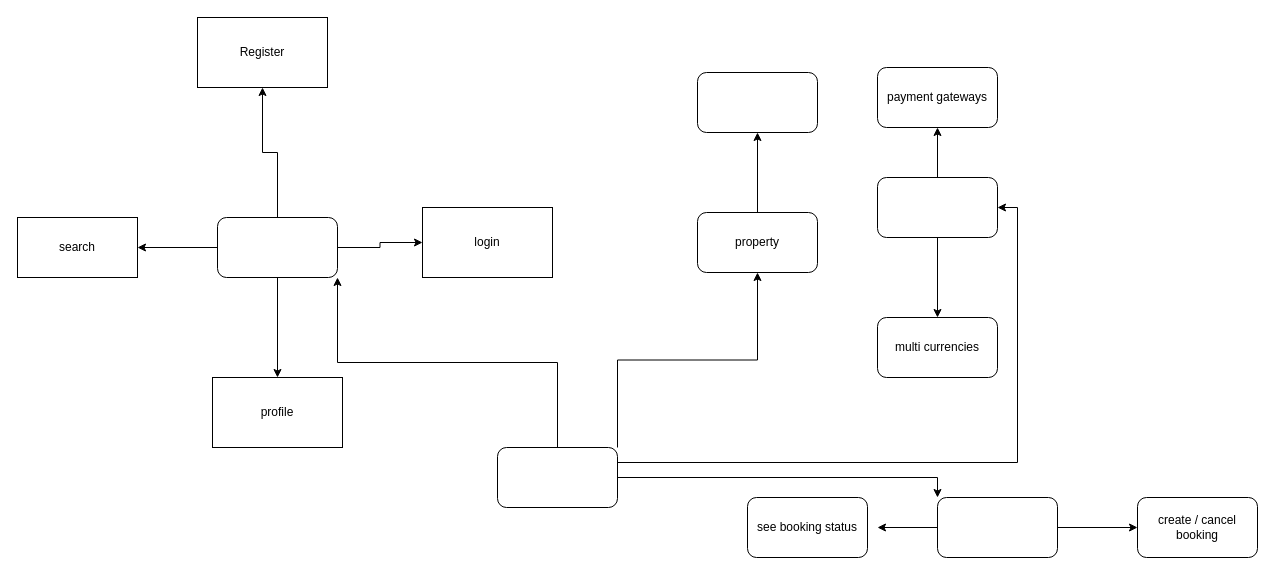
The diagram is 1275 pixels wide and 575 high, and some of its shapes have lost their labels. Each missing label, with the box of its shape:
Add/Edit/delete property: (696, 72, 818, 132)
Admin: (496, 446, 618, 508)
Booking: (936, 496, 1058, 558)
payment: (876, 176, 998, 238)
User: (216, 216, 338, 278)
